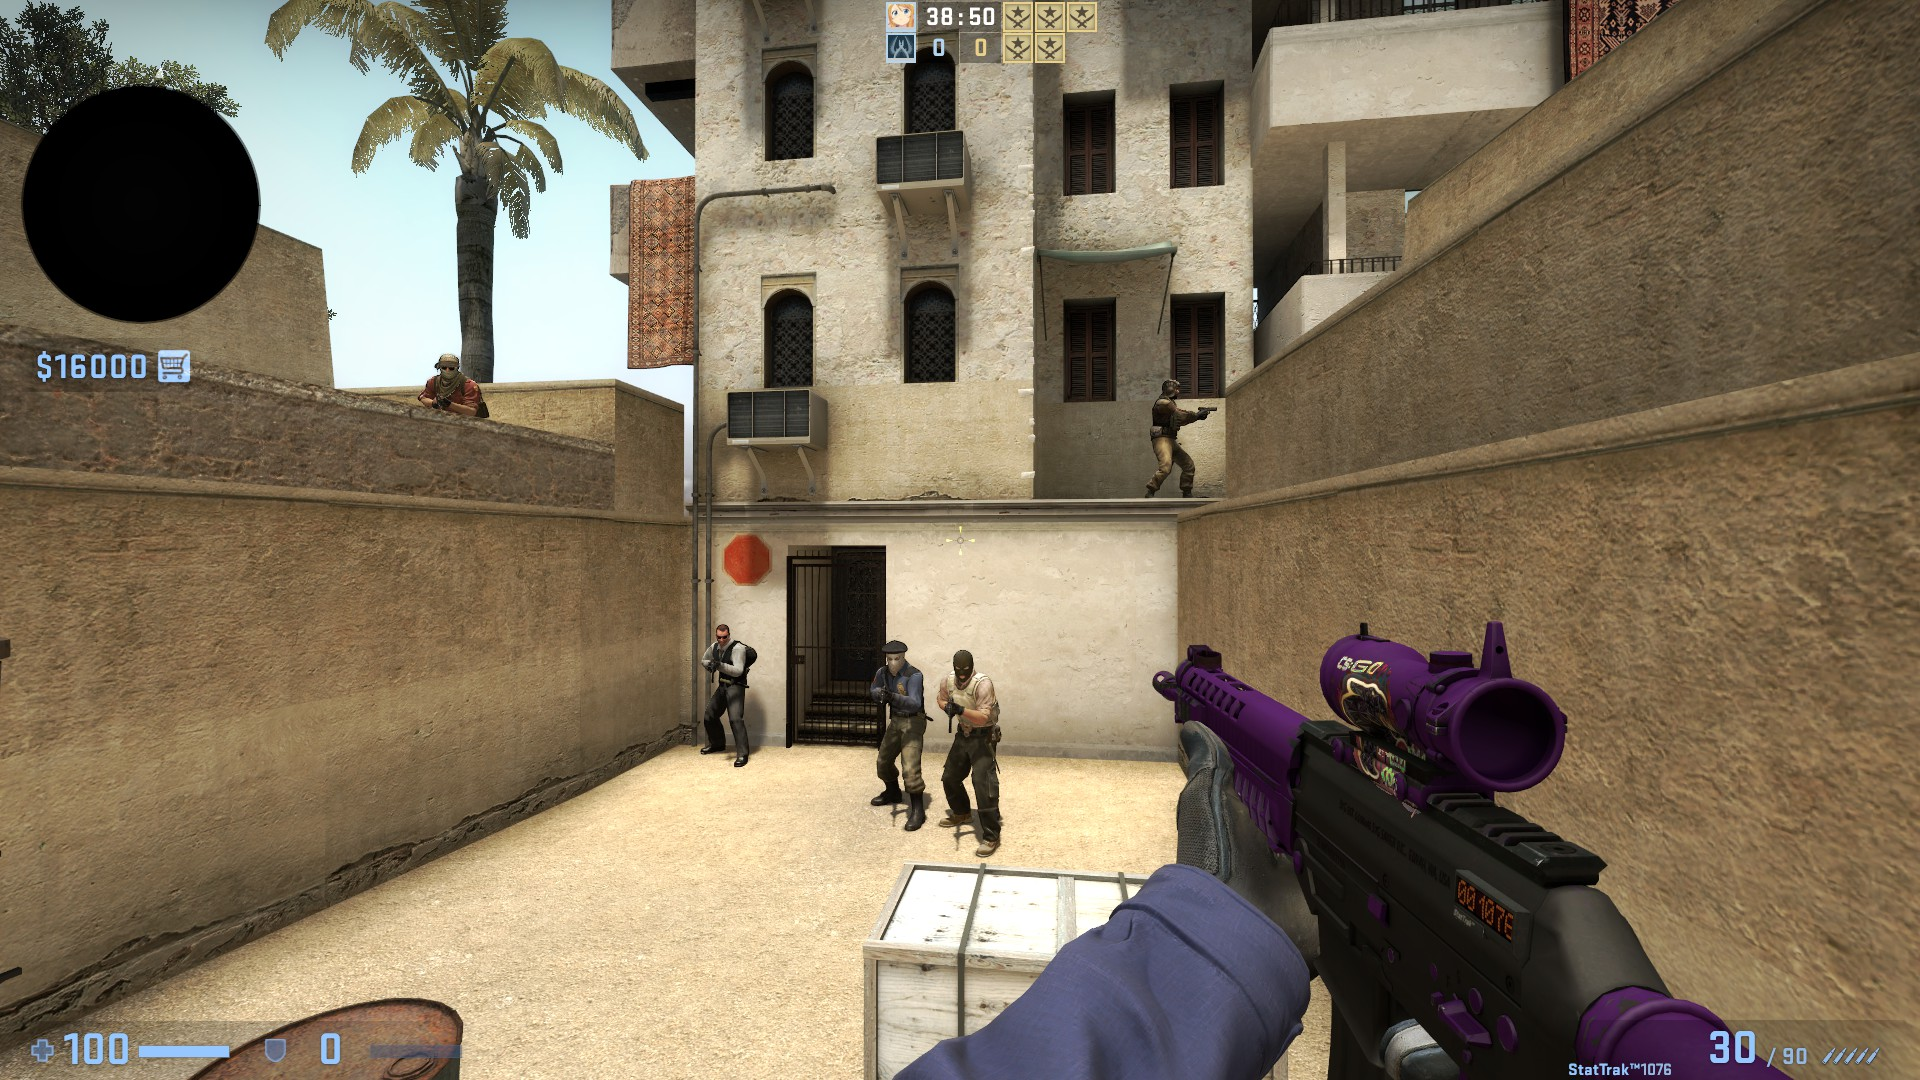head: (879, 638, 906, 670), (950, 648, 971, 682), (433, 353, 459, 379), (1159, 377, 1181, 399), (714, 623, 731, 648)
